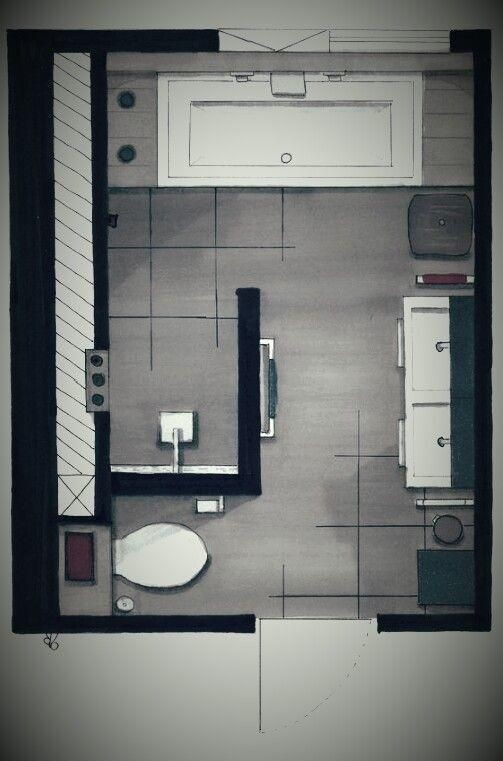room: (102, 39, 491, 297), (260, 293, 500, 639), (95, 284, 265, 498), (57, 492, 261, 627)
wall: (4, 19, 65, 648), (465, 17, 499, 647), (83, 27, 122, 538), (225, 273, 281, 501), (8, 597, 259, 646), (1, 12, 220, 68), (87, 456, 277, 506), (377, 598, 499, 654), (447, 11, 495, 56)
window: (217, 19, 452, 68)
